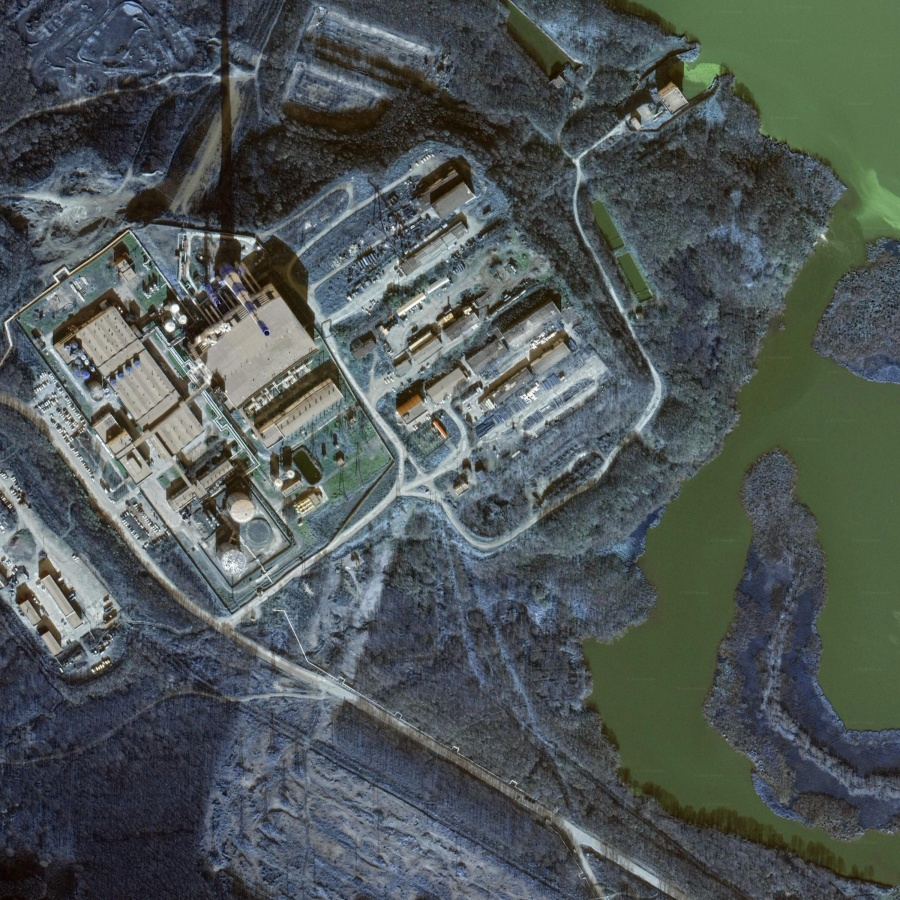PowerPlant: (51, 215, 366, 579)
